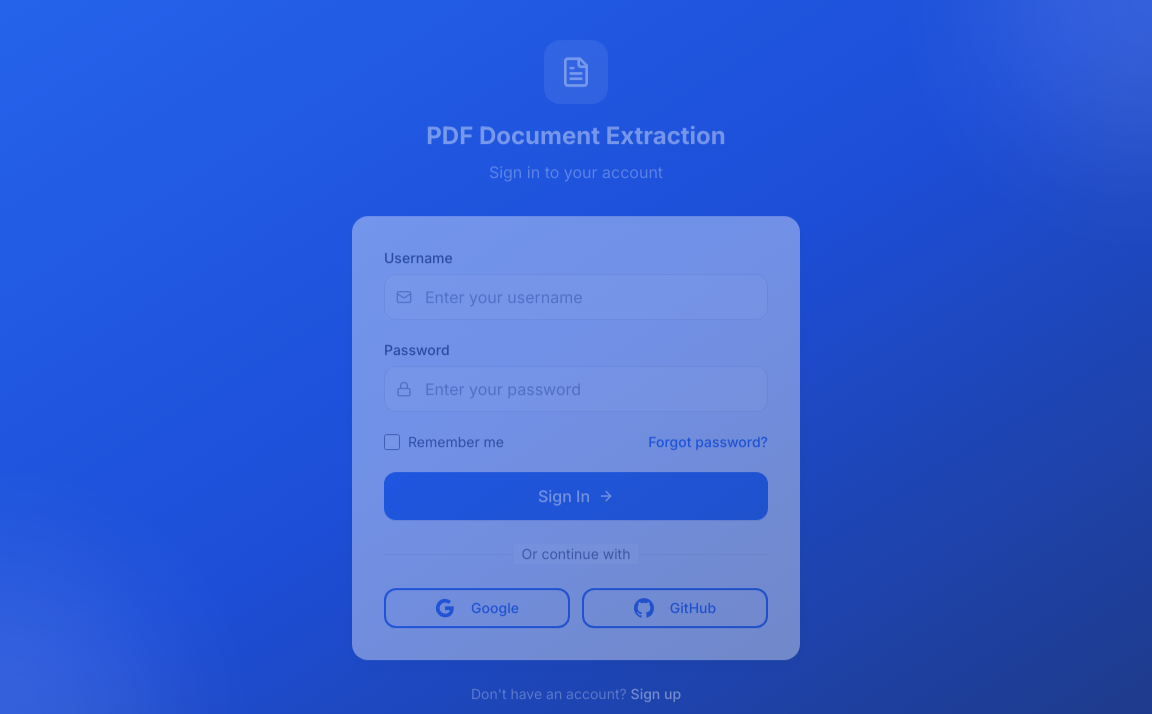
Scenario: LoginPage › Form Validation › shows error when submitting empty username
Click the button "Sign In": {"x": 576, "y": 496} [384,472,768,520]
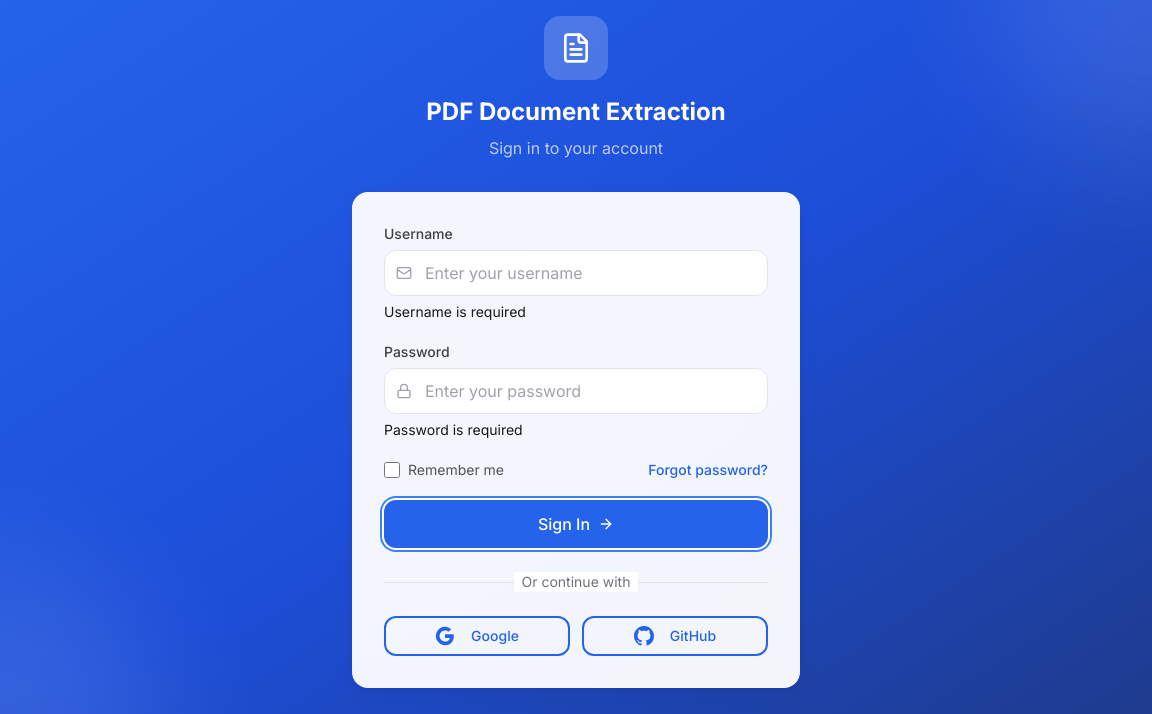
Check: the text "Username is required" is shown, box [384,303,526,320]
